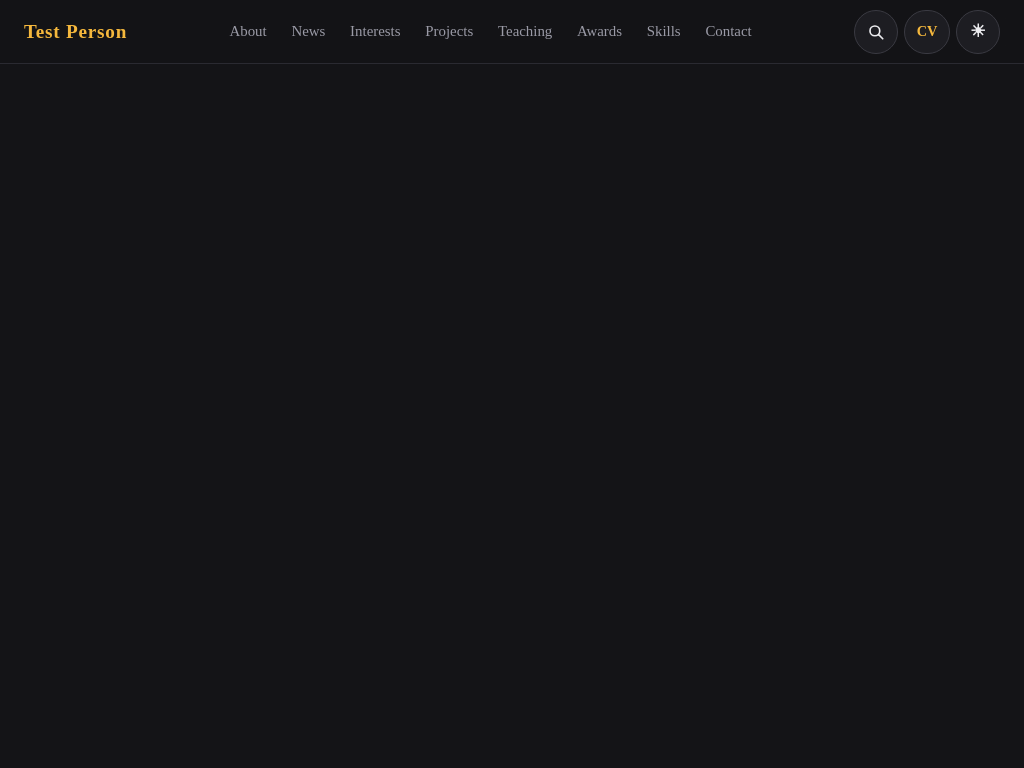
it: top menu › the search button opens the search box
Click the button named "Search": {"x": 876, "y": 32} [854,10,898,54]
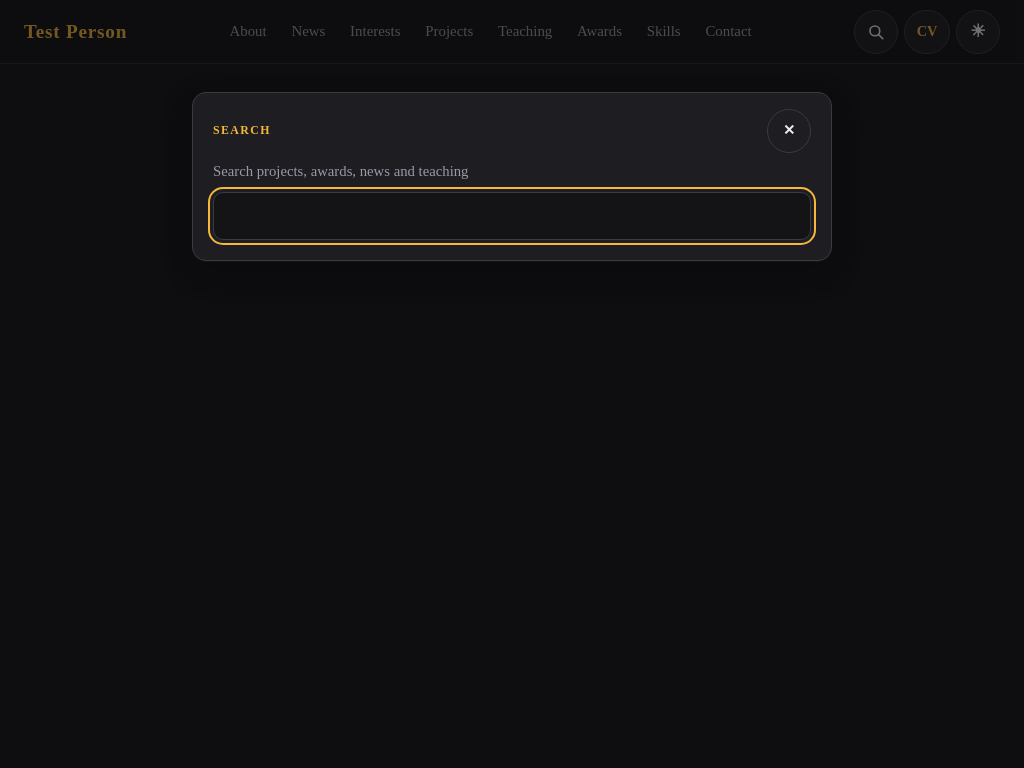
Now the search field labelled "Search projects, awards, news and teaching" is shown, box [213,192,811,240]
